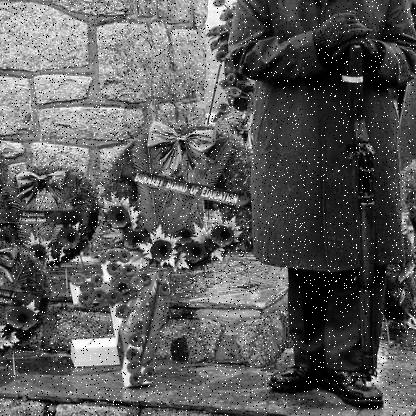rifle: (341, 34, 387, 381)
